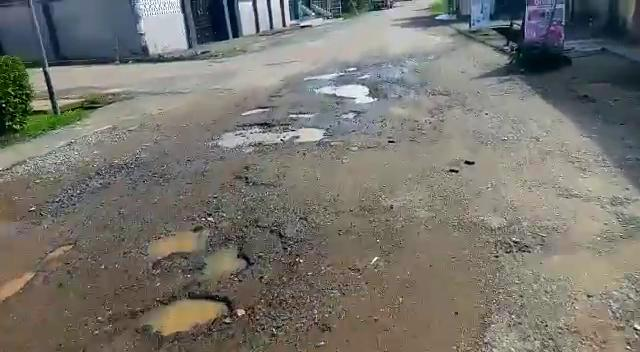pothole: (139, 230, 258, 274), (136, 292, 236, 340), (217, 125, 326, 149), (314, 81, 377, 101), (241, 106, 275, 117), (290, 112, 320, 118)
